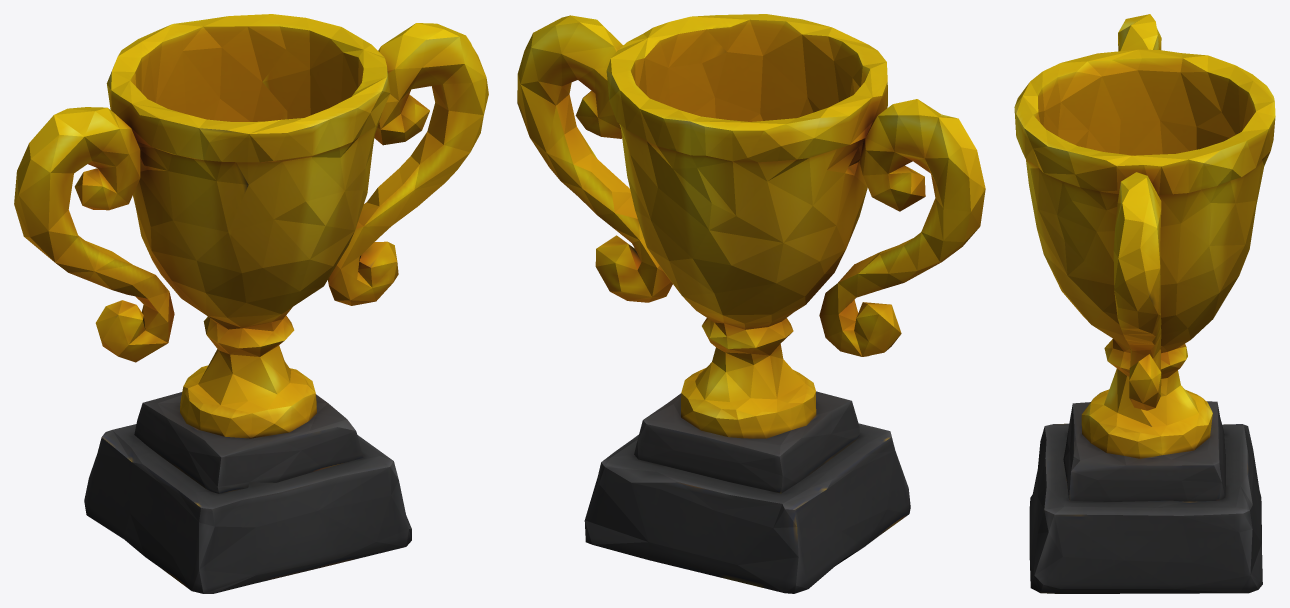
Rendered from trophy.glb.
3 views of the same model, side by side, from view 1: azimuth 30°, elevation 25°; view 2: azimuth 150°, elevation 25°; view 3: azimuth 270°, elevation 25° (orthographic). The views are drawn at different scales.
Visible parts, largest first — view 1: geometry_0; view 2: geometry_0; view 3: geometry_0.
Part boxes in pixels (x1,y1,x2,y2): geometry_0: (14, 14, 488, 593); geometry_0: (517, 14, 985, 593); geometry_0: (1014, 14, 1275, 593).
Bounding box in the file's own units: 1 × 0.9577 × 0.509.
Materials: 1 (1 with a texture image).
